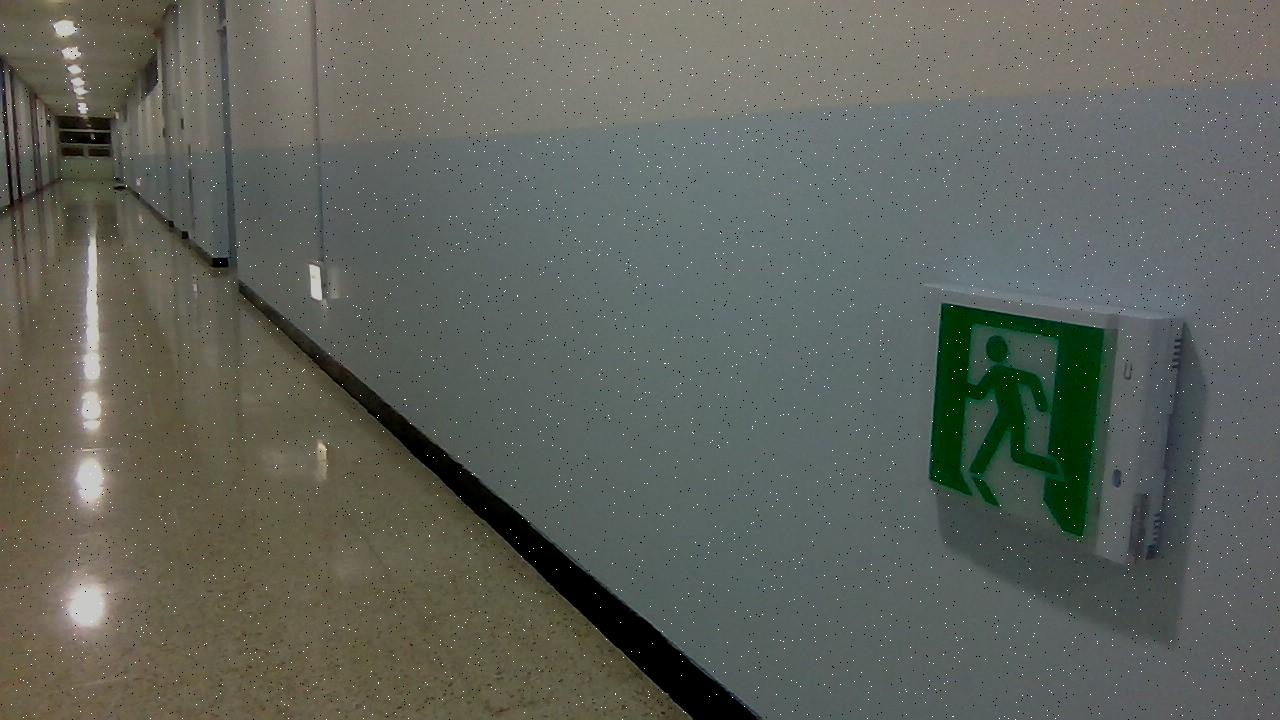emergency_exit: (926, 297, 1183, 566), (927, 301, 1116, 541)
